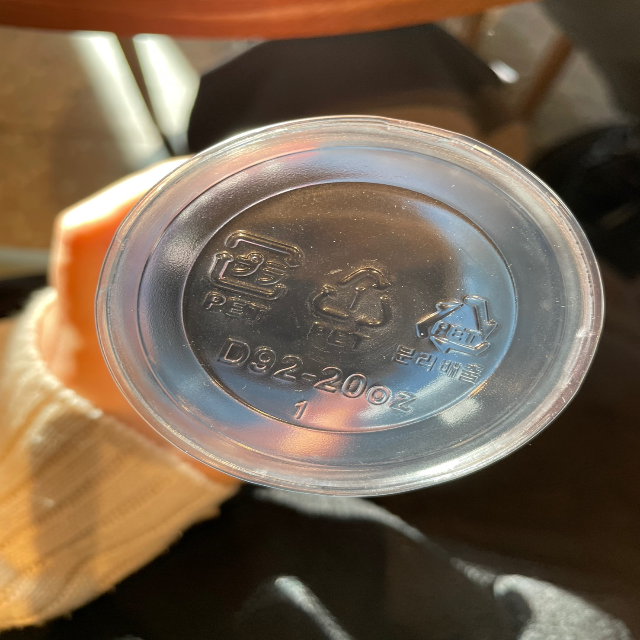pet: (192, 211, 303, 327), (391, 289, 502, 388), (296, 257, 394, 355)
